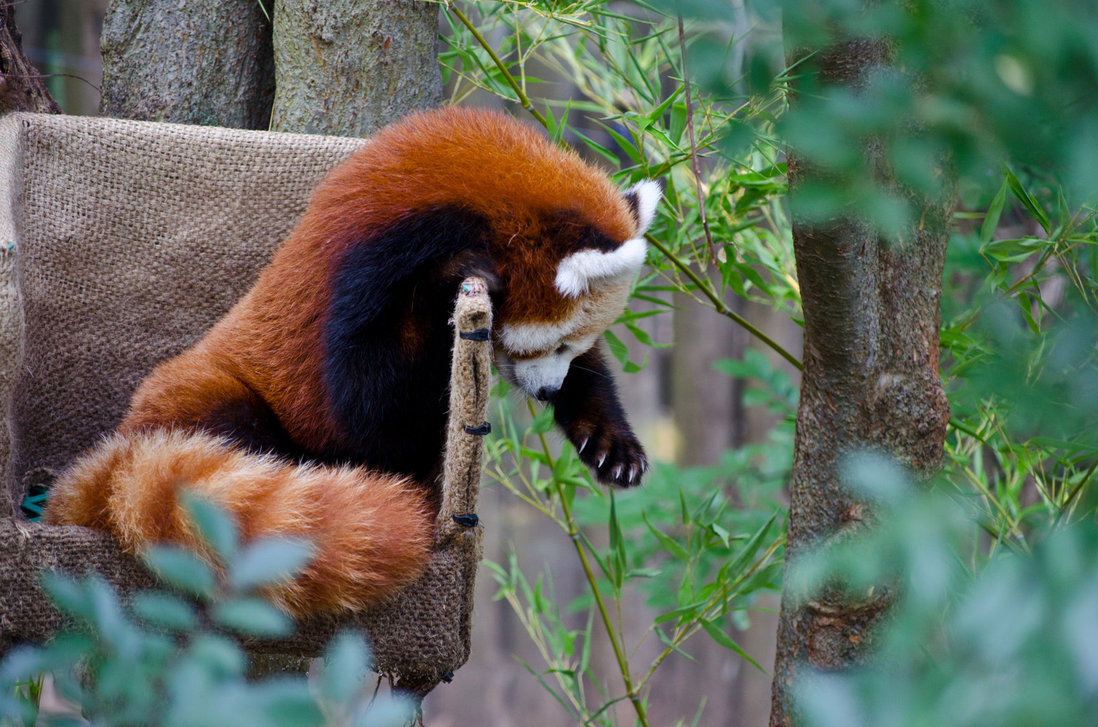red_panda: (92, 113, 662, 603)
